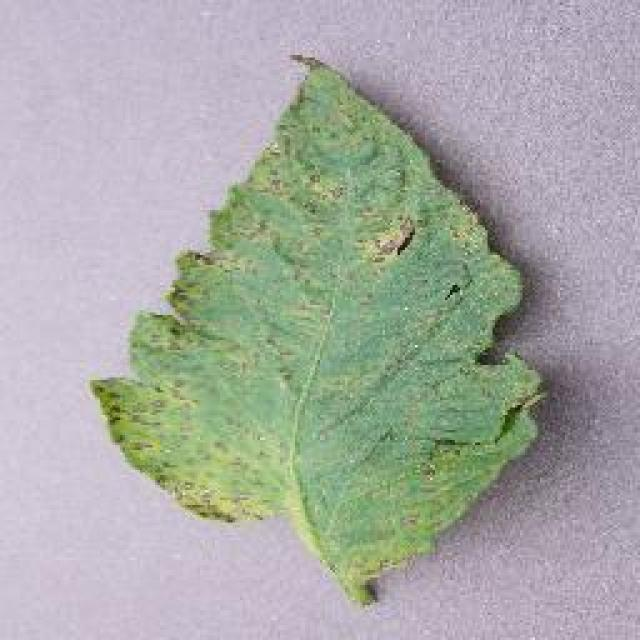Tomato target spot leaf: (88, 58, 542, 590)
